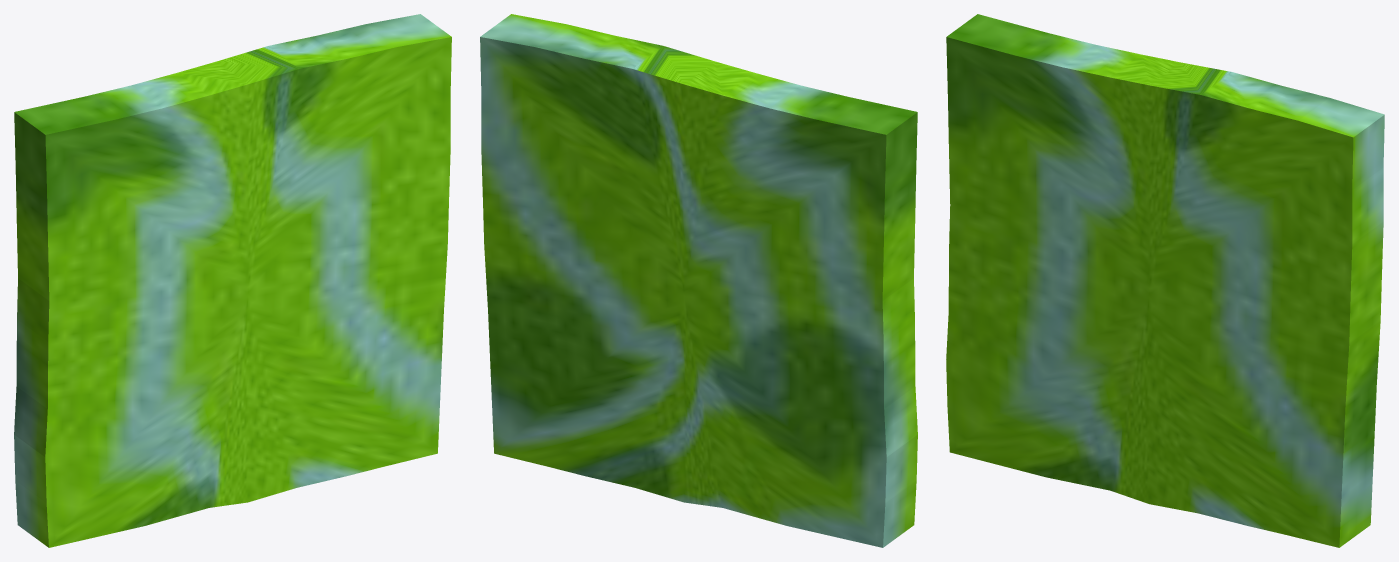
File: square.dae
3 views of the same model, side by side, from view 1: azimuth 30°, elevation 25°; view 2: azimuth 150°, elevation 25°; view 3: azimuth 330°, elevation 25° (orthographic).
Visible parts, largest first — view 1: Cylinder; view 2: Cylinder; view 3: Cylinder.
Part boxes in pixels (box(x1,y1,x2,y2)): Cylinder: box(14, 14, 451, 547); Cylinder: box(480, 14, 917, 547); Cylinder: box(946, 14, 1384, 547).
Bounding box in the file's own units: 5.8 × 0.774 × 5.74.
